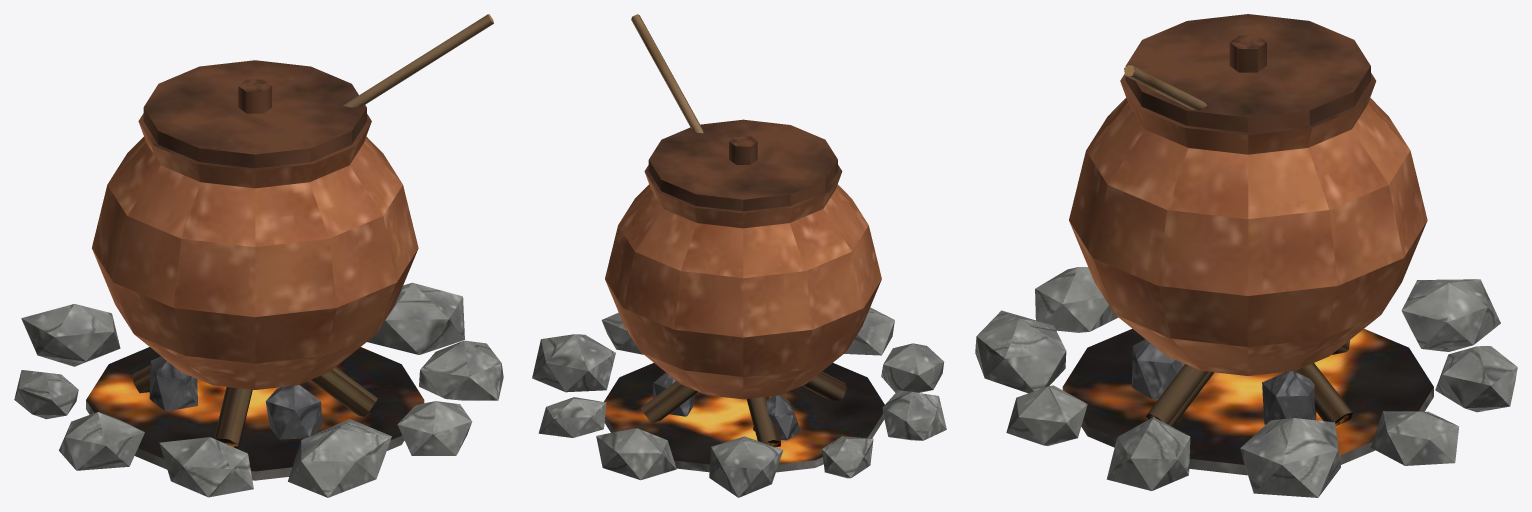
Rendered from crock_pot.glb.
The picture shows the model from 3 angles, left to right: view 1: azimuth 30°, elevation 25°; view 2: azimuth 150°, elevation 25°; view 3: azimuth 270°, elevation 25°; orthographic projection. The views are drawn at different scales.
Visible parts, largest first — view 1: crock_pot; view 2: crock_pot; view 3: crock_pot.
Part boxes in pixels (<box>): crock_pot: <box>14,14,503,497</box>; crock_pot: <box>532,14,946,497</box>; crock_pot: <box>975,14,1517,497</box>.
Bounding box in the file's own units: 1.48 × 1.31 × 1.46.
1 material, 1 textured.
